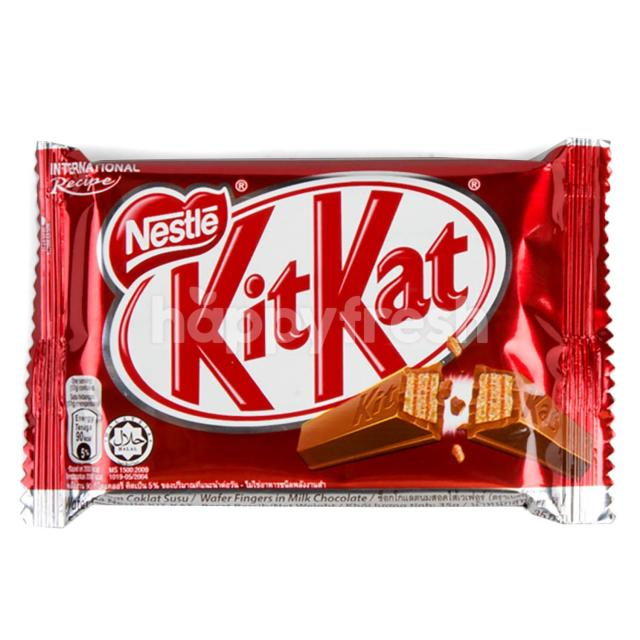kitkat: (33, 143, 611, 526)
